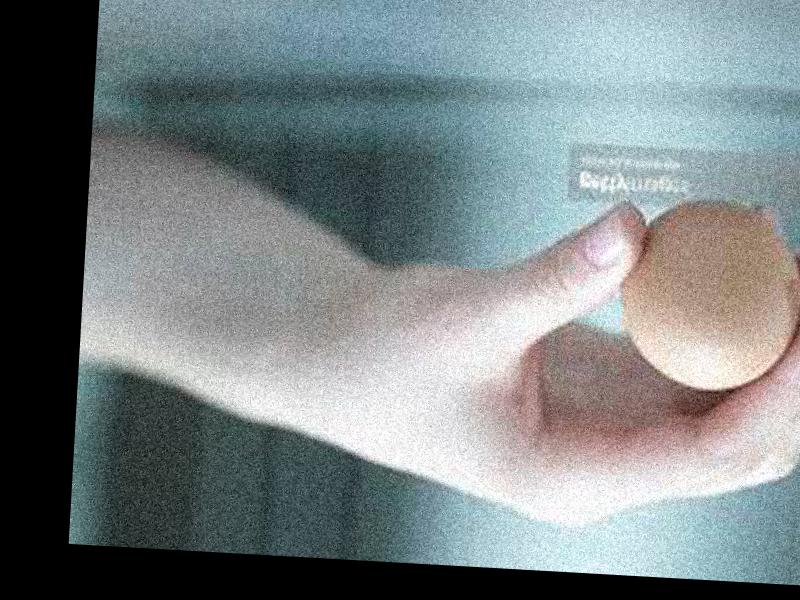Eggs: (612, 191, 800, 397)
